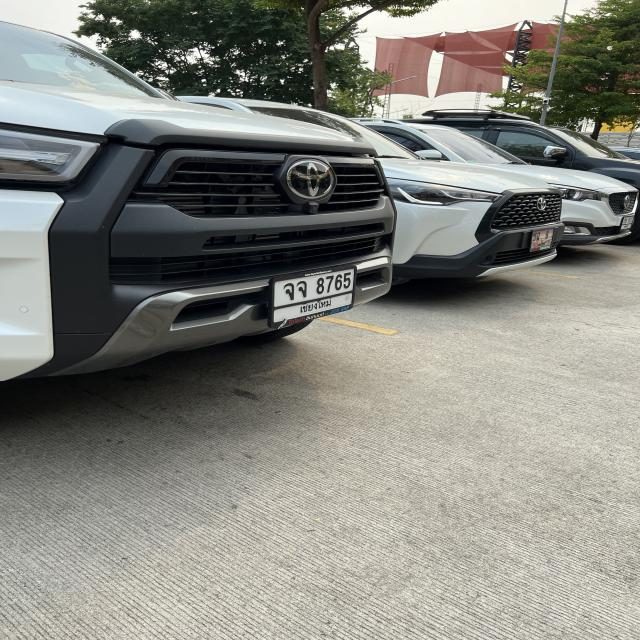license_plate: (268, 261, 361, 332)
